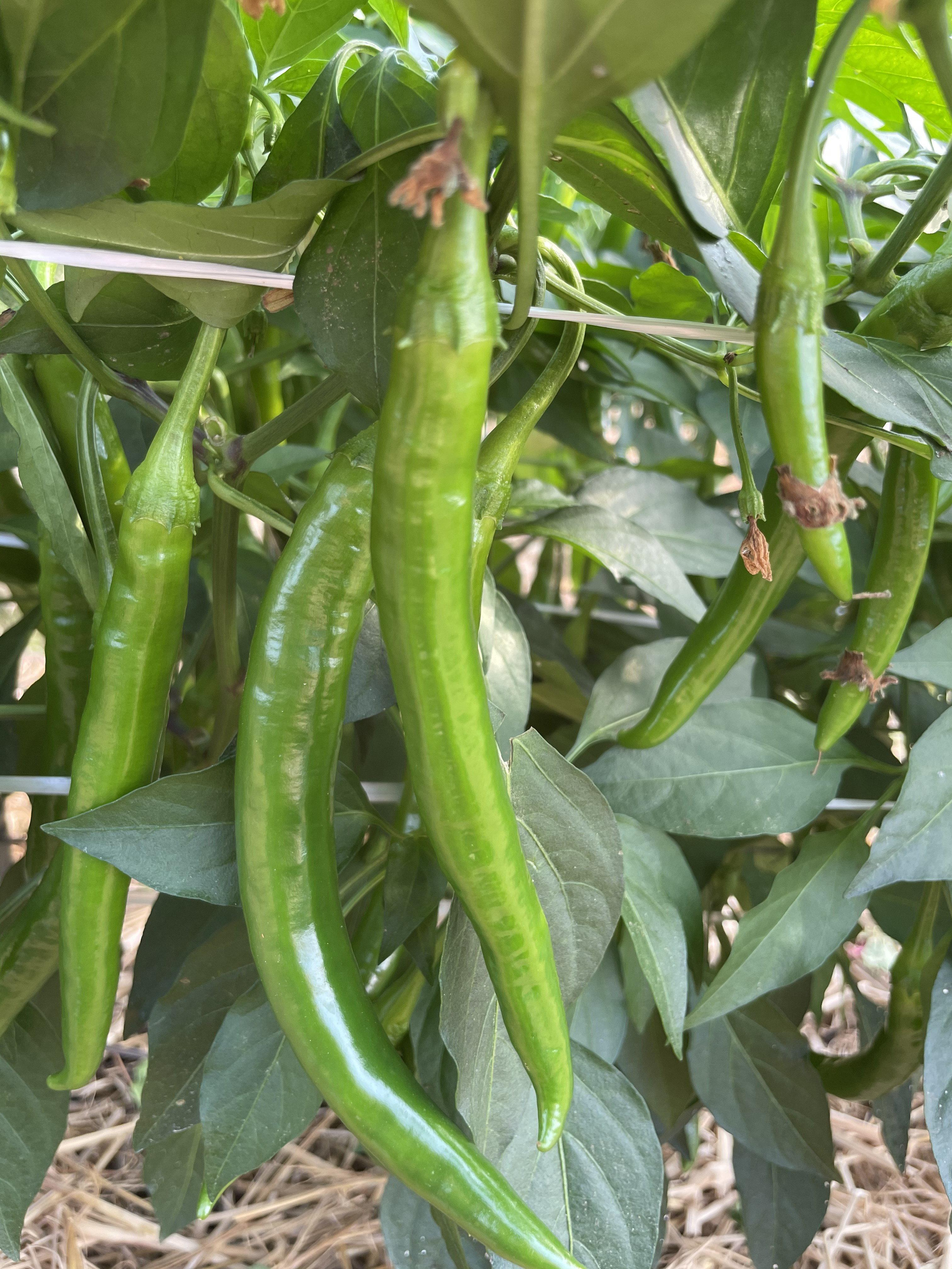Buah Cabai Sehat: (227, 413, 585, 1269), (364, 192, 597, 1160), (57, 432, 198, 1124), (815, 429, 943, 774), (752, 237, 866, 597)
